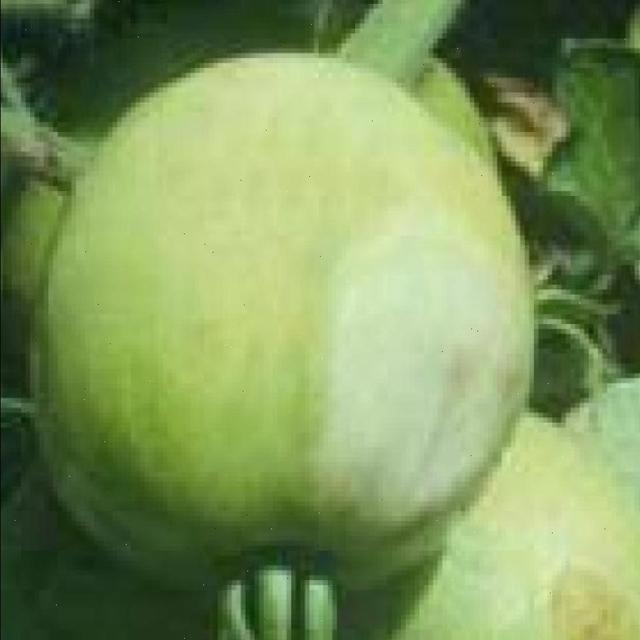Sunscald Fruit: (195, 118, 357, 367)
